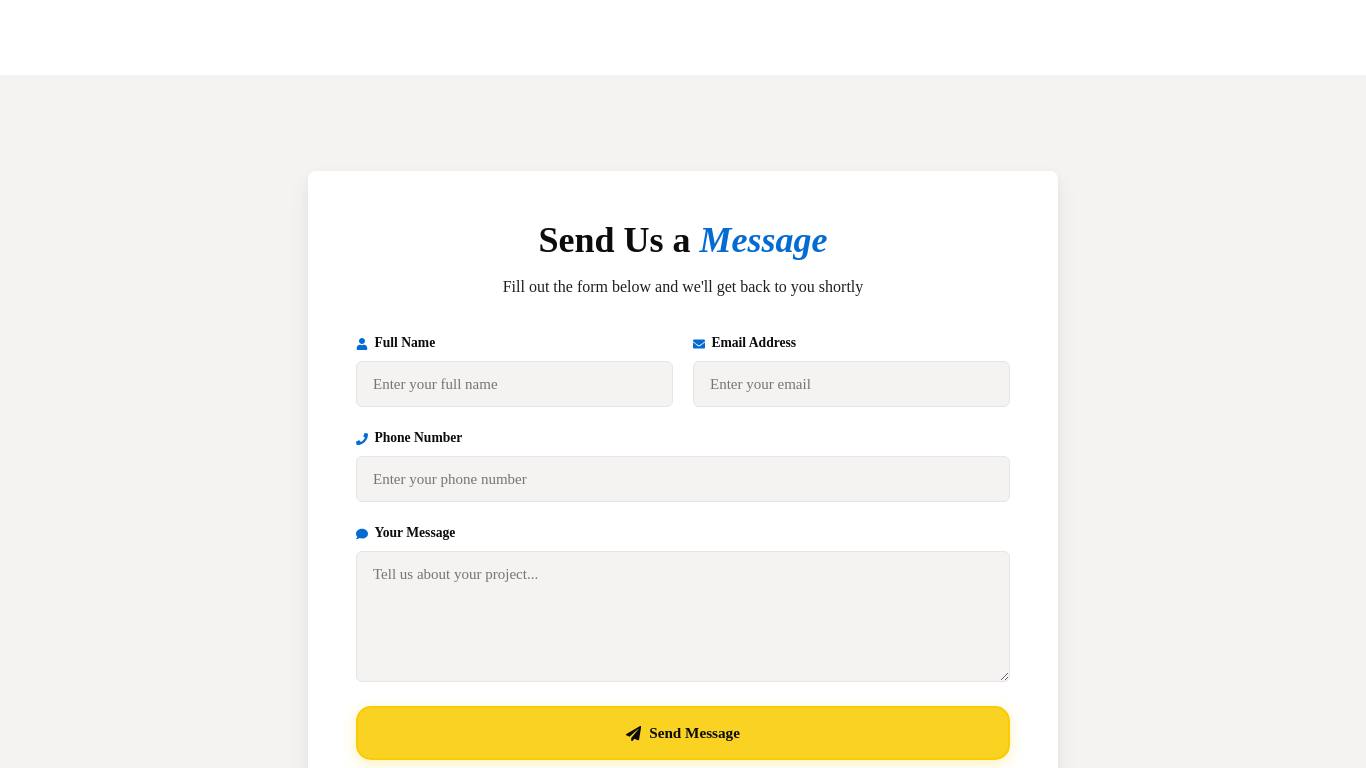
Test case: Contact Page › shows error on failed submission
(page scrolled)
Type "Test" into the field with placeholder "Enter your full name". click: (514, 384)
box: [356, 361, 673, 407]
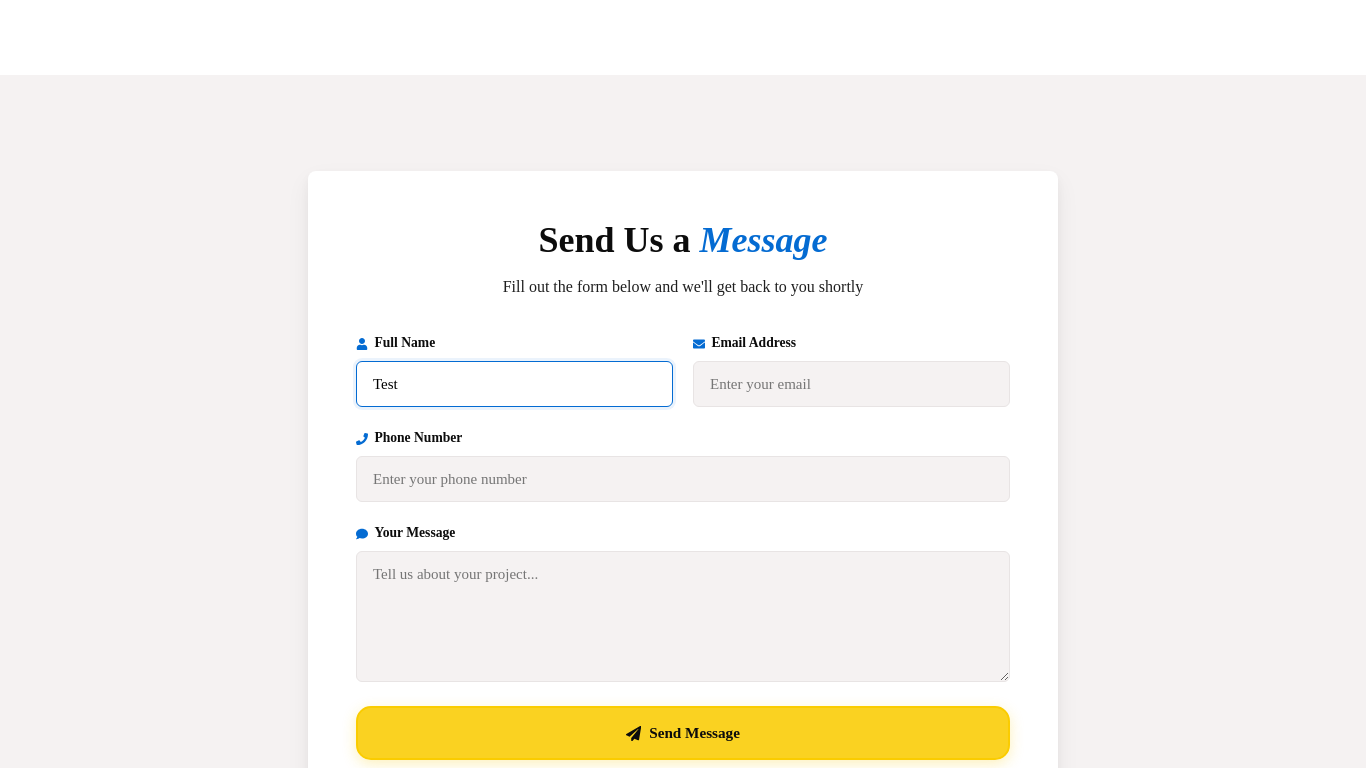
Type "test@test.com" into the field with placeholder "Enter your email". click: (852, 384)
box: [693, 361, 1010, 407]
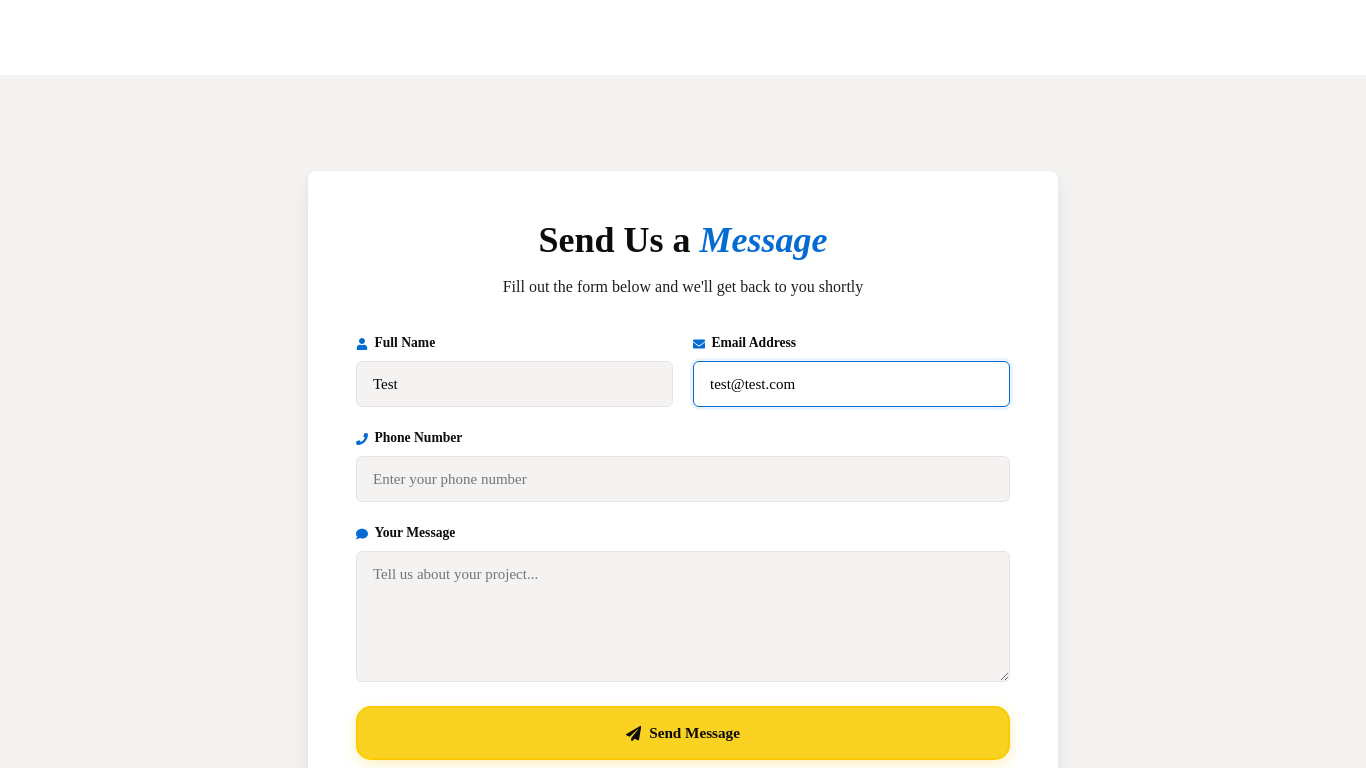
Type "1234567890" into the field with placeholder "Enter your phone number". click: (683, 479)
box: [356, 456, 1010, 502]
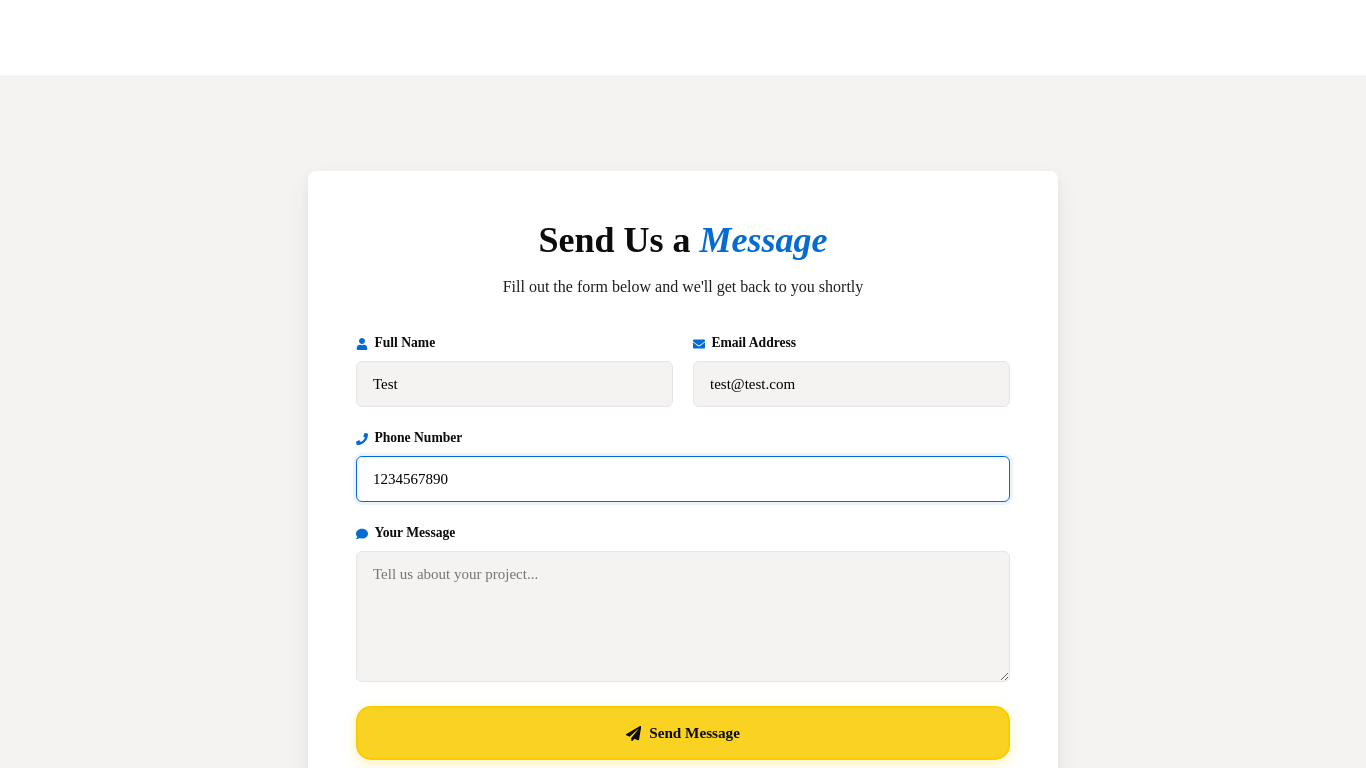
Type "Test" into the text box with placeholder "Tell us about your project...". click: (683, 617)
box: [356, 551, 1010, 682]
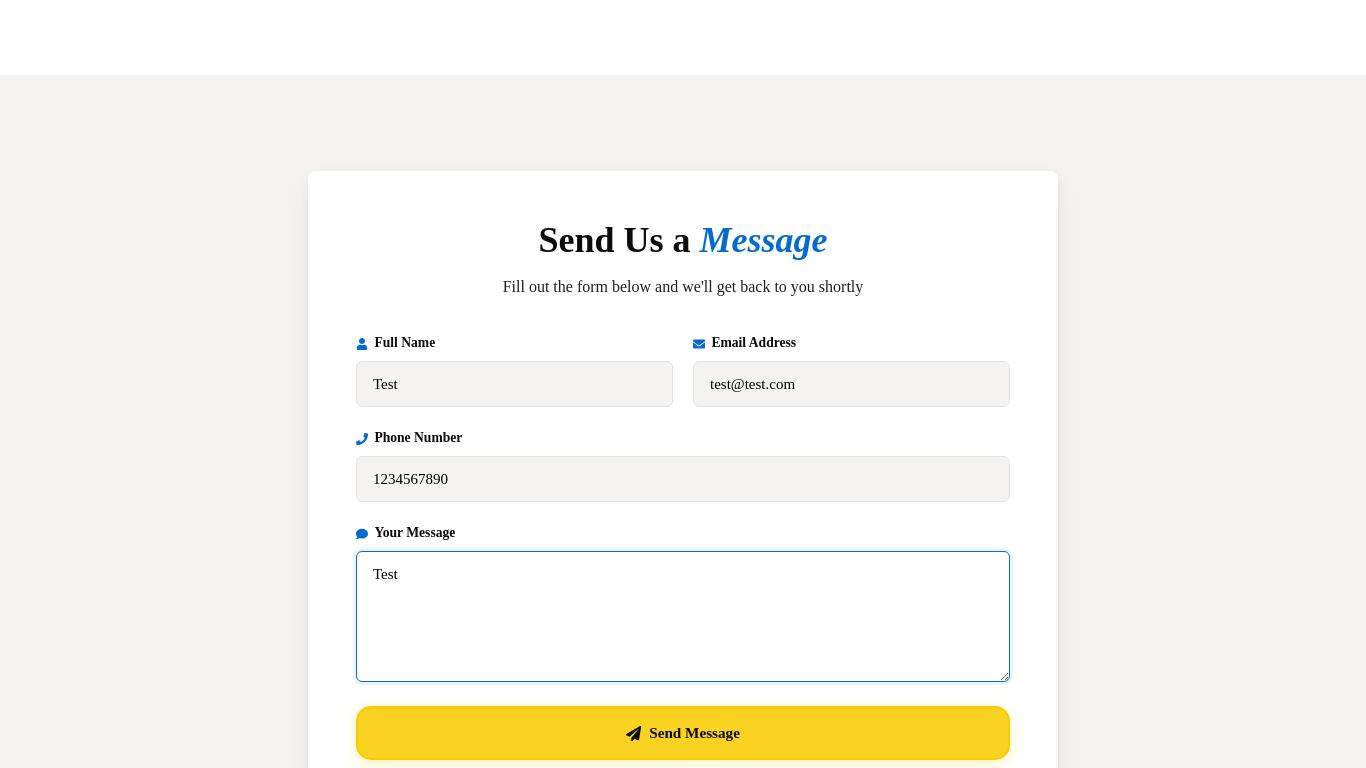
Click the button "Send Message". click: (683, 733)
box: [356, 706, 1010, 760]
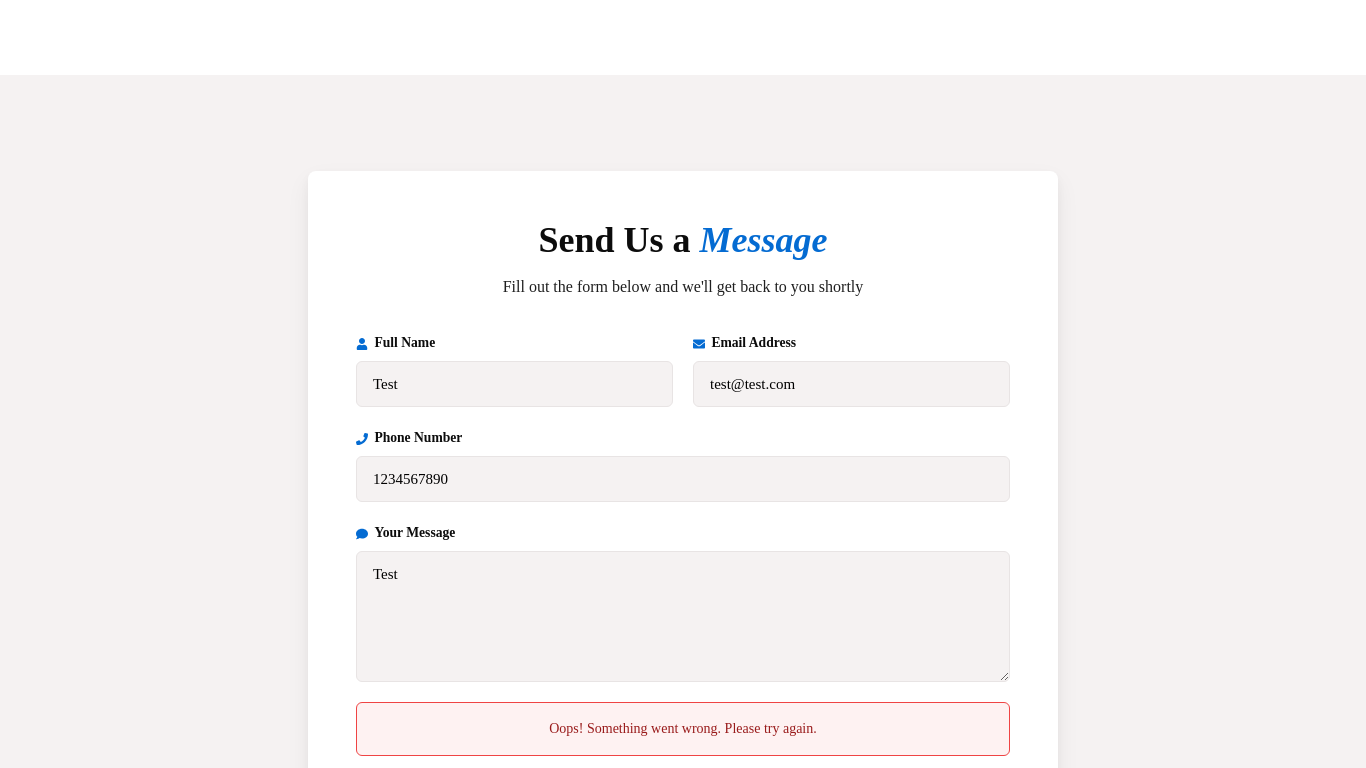
Expected: the text "Oops! Something went wrong. Please try again." is shown, [356, 702, 1010, 756]
